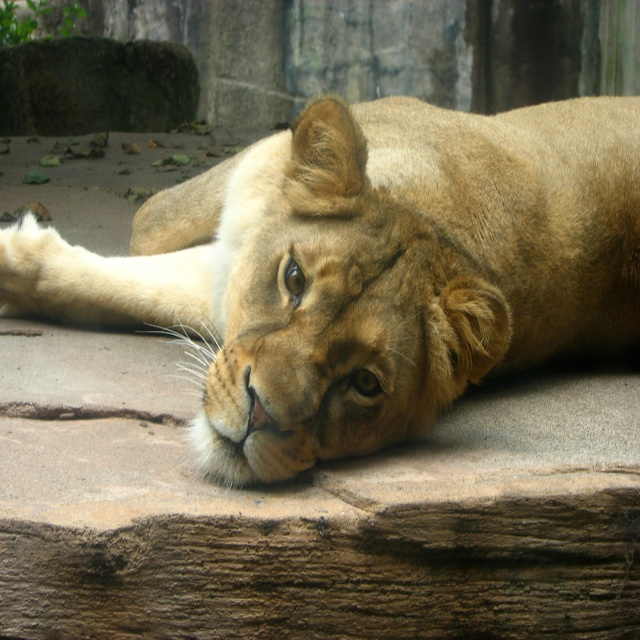Lion: (0, 90, 640, 502)
